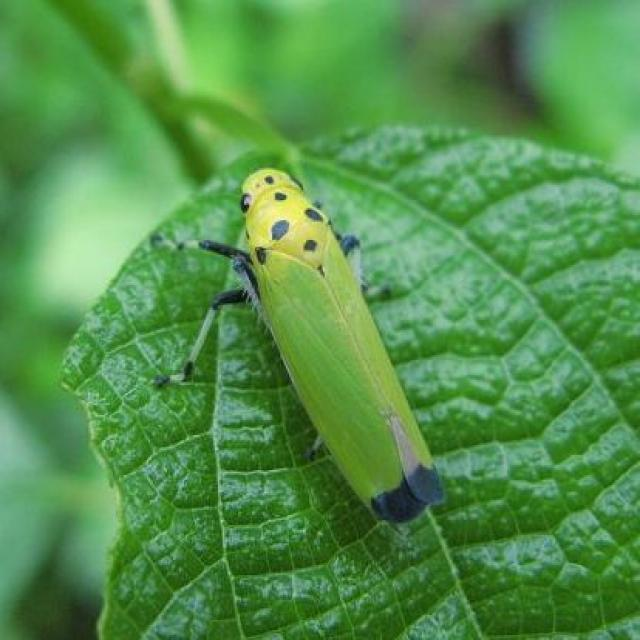Yechan: (212, 161, 439, 527)
